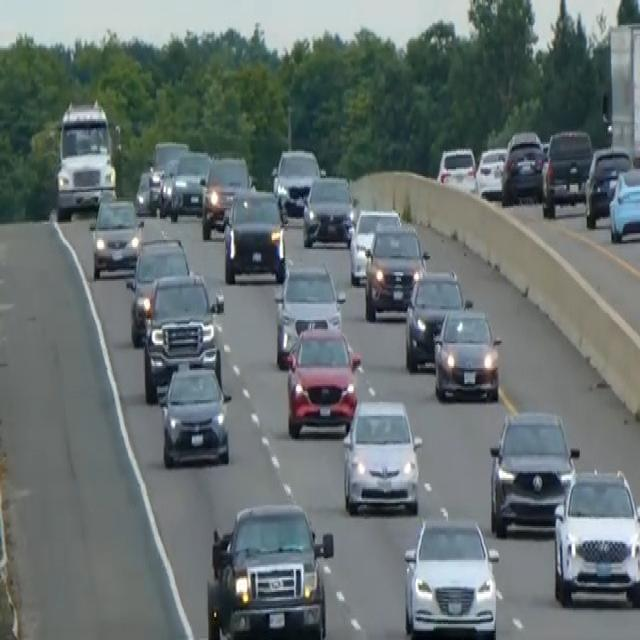car: (402, 510, 499, 638), (552, 466, 639, 608), (488, 407, 578, 537), (142, 268, 224, 402), (341, 394, 423, 516), (285, 320, 361, 437), (157, 359, 232, 468), (274, 262, 345, 366), (125, 235, 190, 345), (431, 302, 502, 402), (404, 266, 469, 372), (363, 220, 429, 320), (222, 185, 286, 284), (89, 194, 143, 279), (541, 126, 592, 215), (200, 153, 251, 238), (348, 207, 401, 284), (584, 144, 632, 226), (301, 173, 354, 247), (500, 128, 545, 204), (272, 146, 321, 215), (169, 147, 211, 217), (608, 162, 639, 242), (437, 144, 476, 194), (475, 144, 507, 199), (134, 162, 164, 215), (151, 137, 189, 176)
jeep: (205, 498, 335, 638)
lorry: (53, 96, 118, 219)
